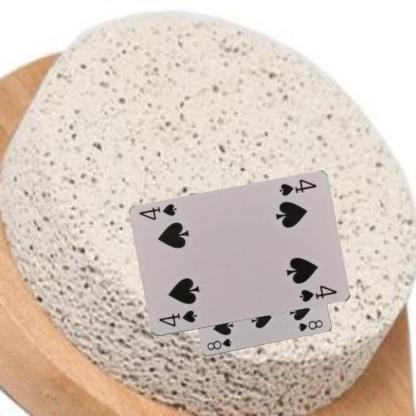4s: (277, 176, 318, 198), (156, 308, 198, 328)
8s: (204, 336, 233, 352)
